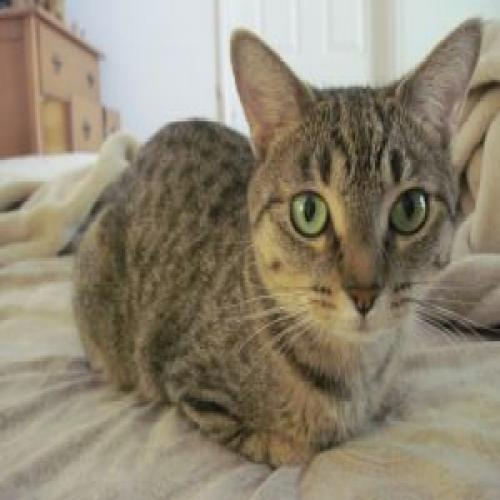bengal: (224, 19, 495, 360)
